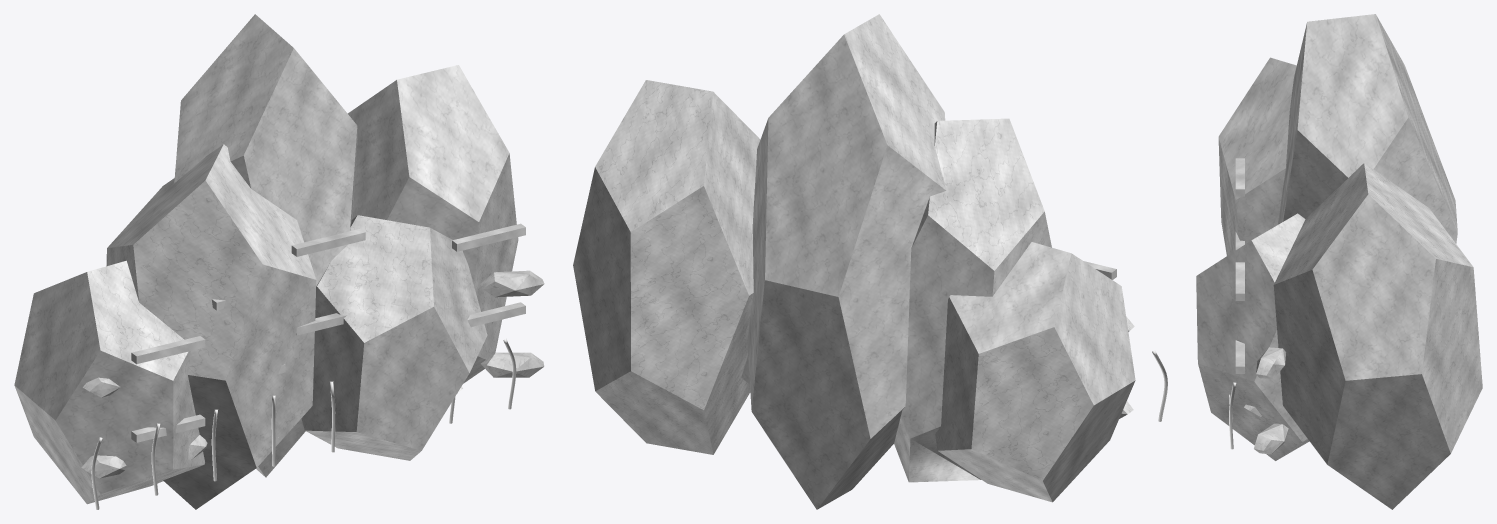
The model's file is cliff.gltf.
3 views of the same model, side by side, from view 1: azimuth 30°, elevation 25°; view 2: azimuth 150°, elevation 25°; view 3: azimuth 270°, elevation 25° (orthographic). The views are drawn at different scales.
Visible parts, largest first — view 1: cliff; view 2: cliff; view 3: cliff.
Boxes of the visible parts, bbox=[...] form: cliff: bbox=[14, 14, 544, 509]; cliff: bbox=[573, 14, 1167, 509]; cliff: bbox=[1196, 14, 1482, 509].
Size of the model in its own units: 3.92 by 3.49 by 2.13.
Materials: 3 (3 with a texture image).
